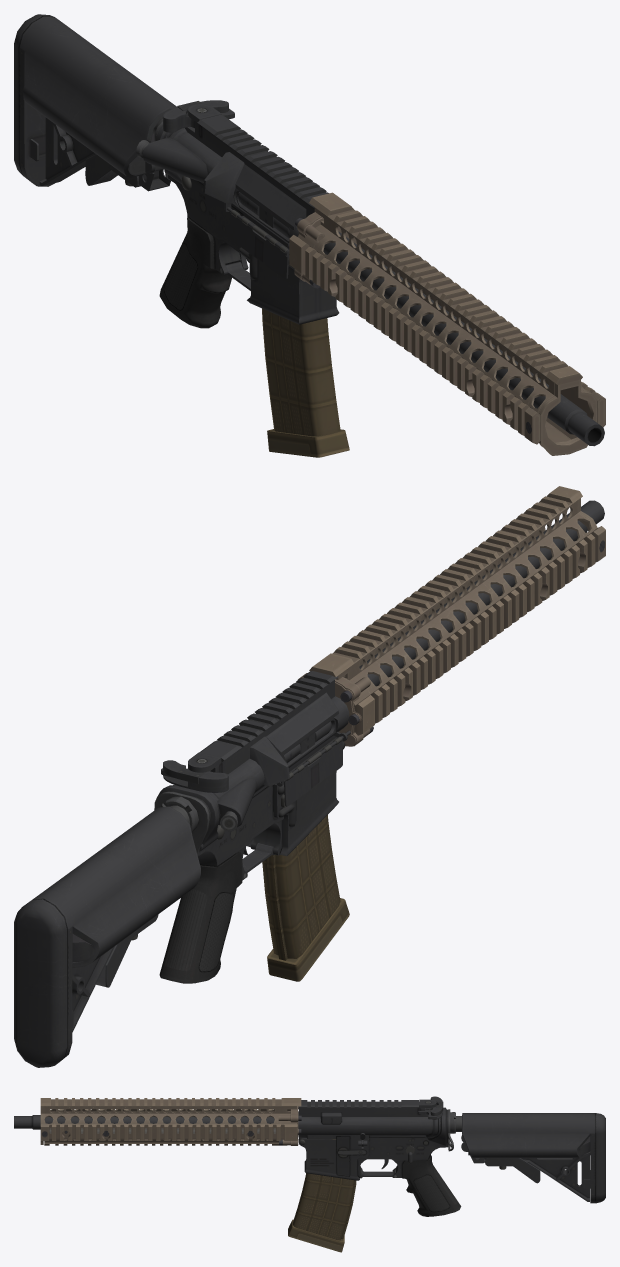
Rendered from raw.glb.
The picture shows the model from 3 angles, top to bottom: view 1: azimuth 30°, elevation 25°; view 2: azimuth 150°, elevation 25°; view 3: azimuth 270°, elevation 25°; orthographic projection. The views are drawn at different scales.
Parts seen in each view (by area): view 1: m4_LOD0; view 2: m4_LOD0; view 3: m4_LOD0.
Boxes of the visible parts, box(x1,y1,x2,y2) form: m4_LOD0: box(14, 14, 605, 457); m4_LOD0: box(14, 486, 605, 1067); m4_LOD0: box(14, 1096, 605, 1252).
Size of the model in its own units: 0.0677 by 0.1969 by 0.7131.
Materials: 1 (1 with a texture image).
